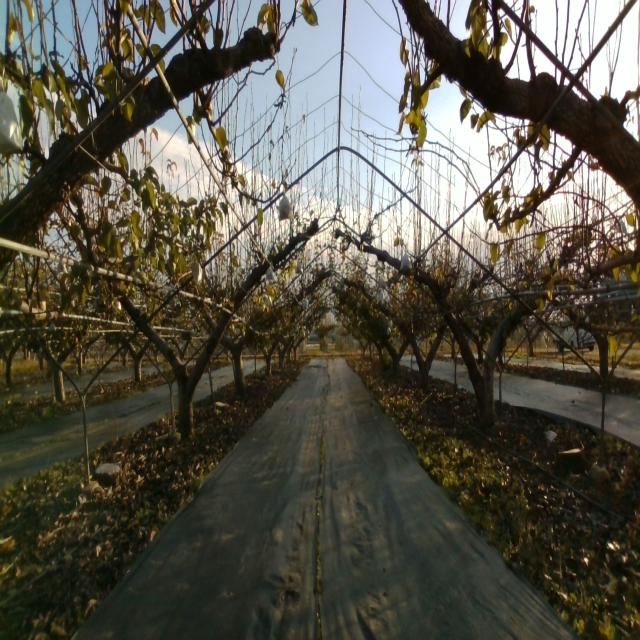pearbags: (278, 192, 295, 221), (191, 259, 204, 284), (400, 251, 412, 275)
